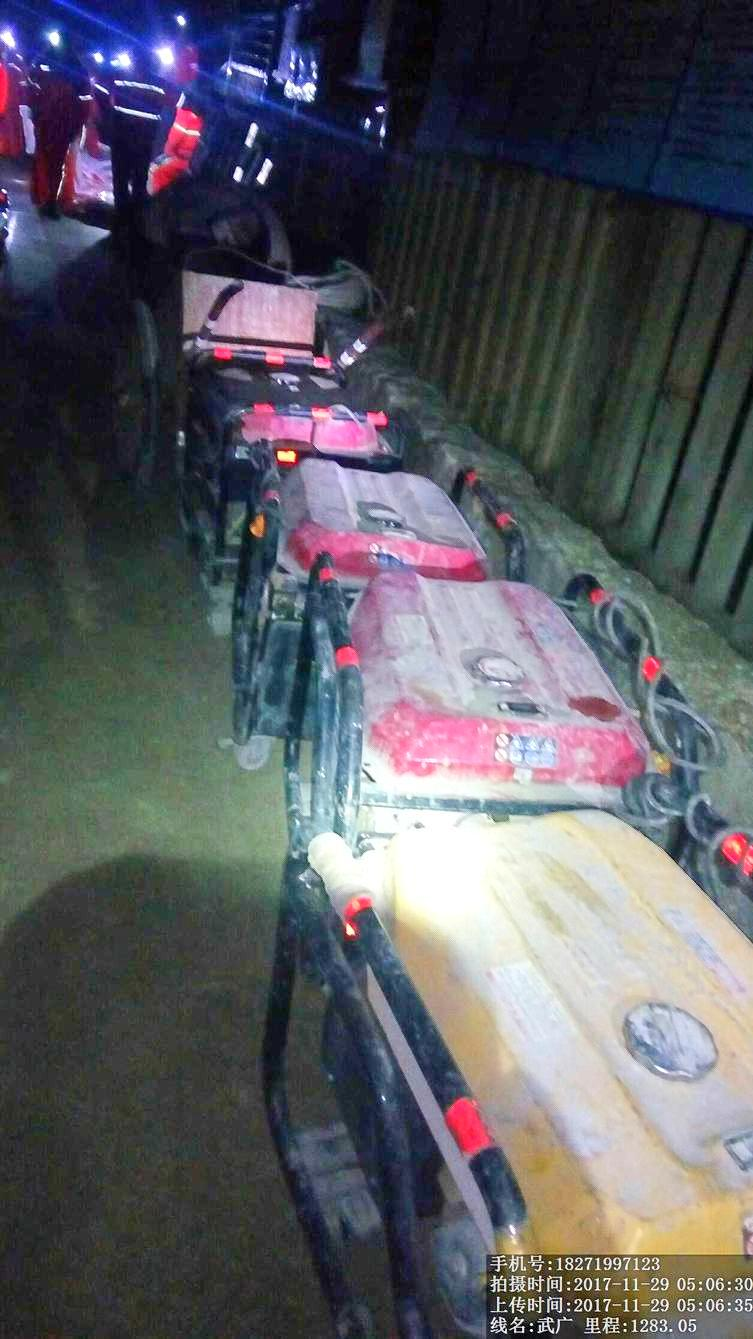DJ: (270, 829, 751, 1252), (280, 580, 714, 825), (224, 466, 531, 580)
